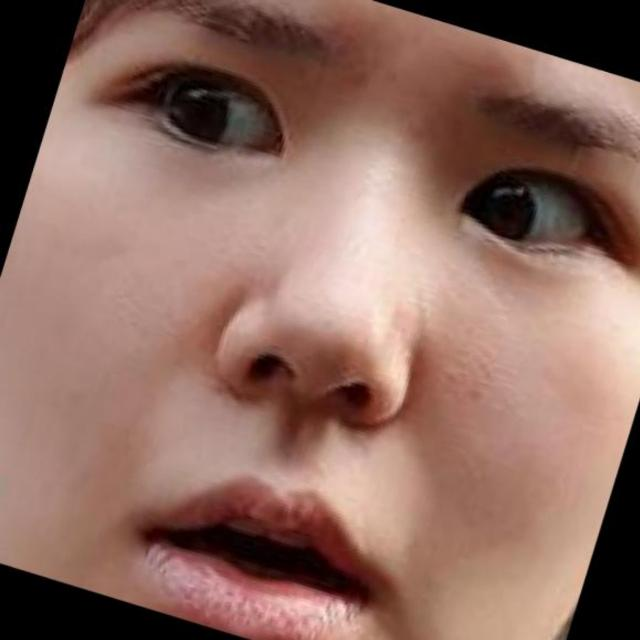Surprised: (62, 21, 627, 640)
